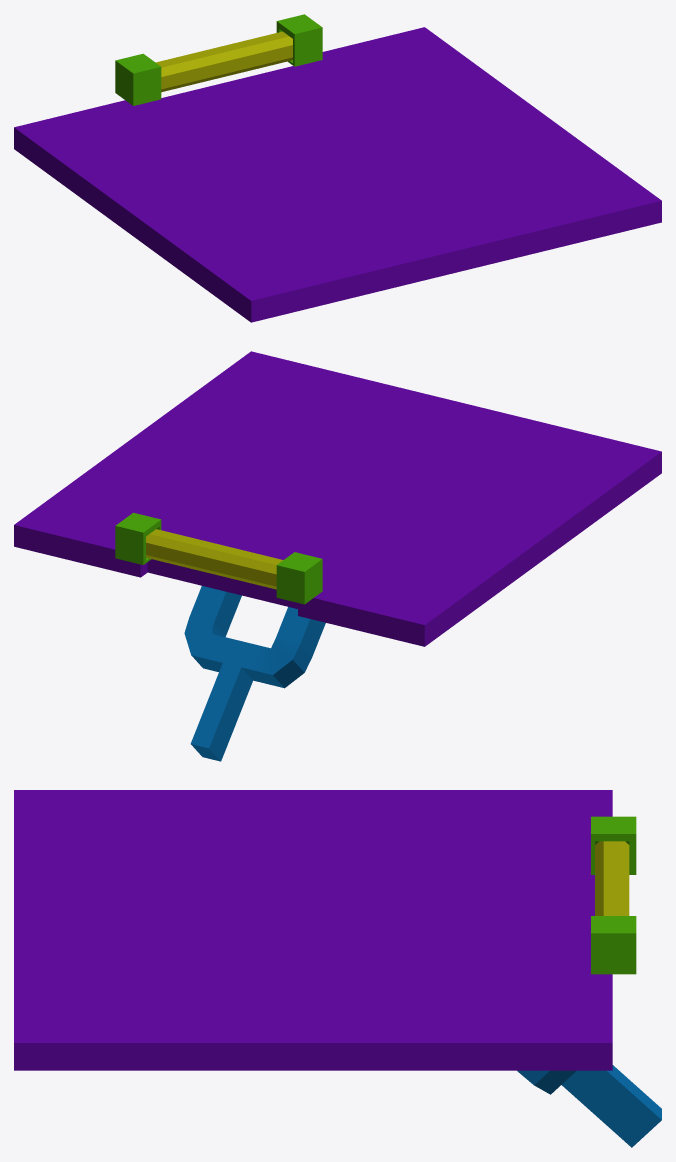
Rendered from Elevator_Platform.fbx.
3 renders of one model, top to bottom at view 1: azimuth 30°, elevation 25°; view 2: azimuth 150°, elevation 25°; view 3: azimuth 270°, elevation 25°, orthographic. The views are drawn at different scales.
Parts seen in each view (by area): view 1: platform, wedge, wedge_base; view 2: platform, handle, wedge, wedge_base; view 3: platform, handle, wedge_base, wedge.
Part boxes in pixels (box(x1,y1,x2,y2)): platform: box(14, 27, 661, 322); wedge: box(156, 31, 292, 92); wedge_base: box(115, 14, 322, 105); platform: box(14, 351, 661, 646); handle: box(184, 586, 325, 761); wedge: box(146, 529, 283, 589); wedge_base: box(115, 512, 322, 604); platform: box(14, 790, 612, 1070); handle: box(517, 1065, 661, 1147); wedge_base: box(591, 816, 636, 974); wedge: box(595, 841, 629, 915).
Bounding box in the file's own units: 52.68 × 25.95 × 57.02.
